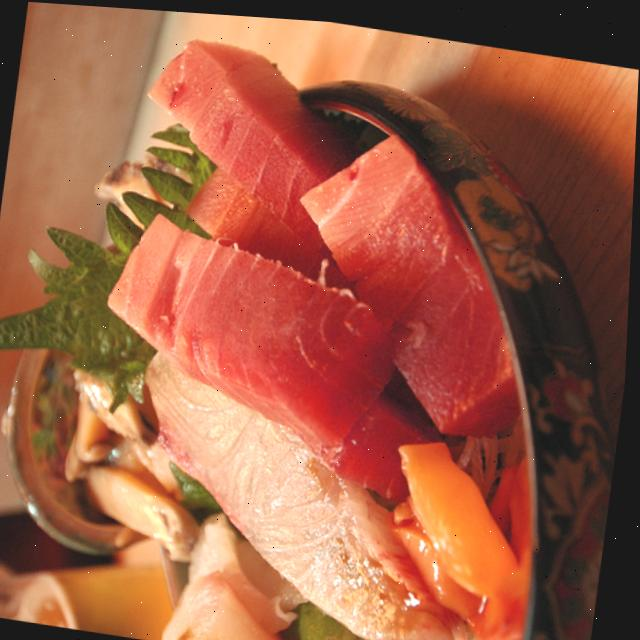刺身生食: (0, 1, 639, 640)
